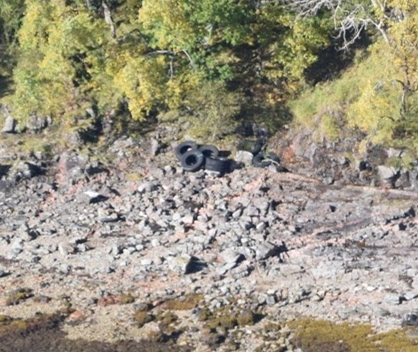white_in_green: (163, 124, 240, 186)
